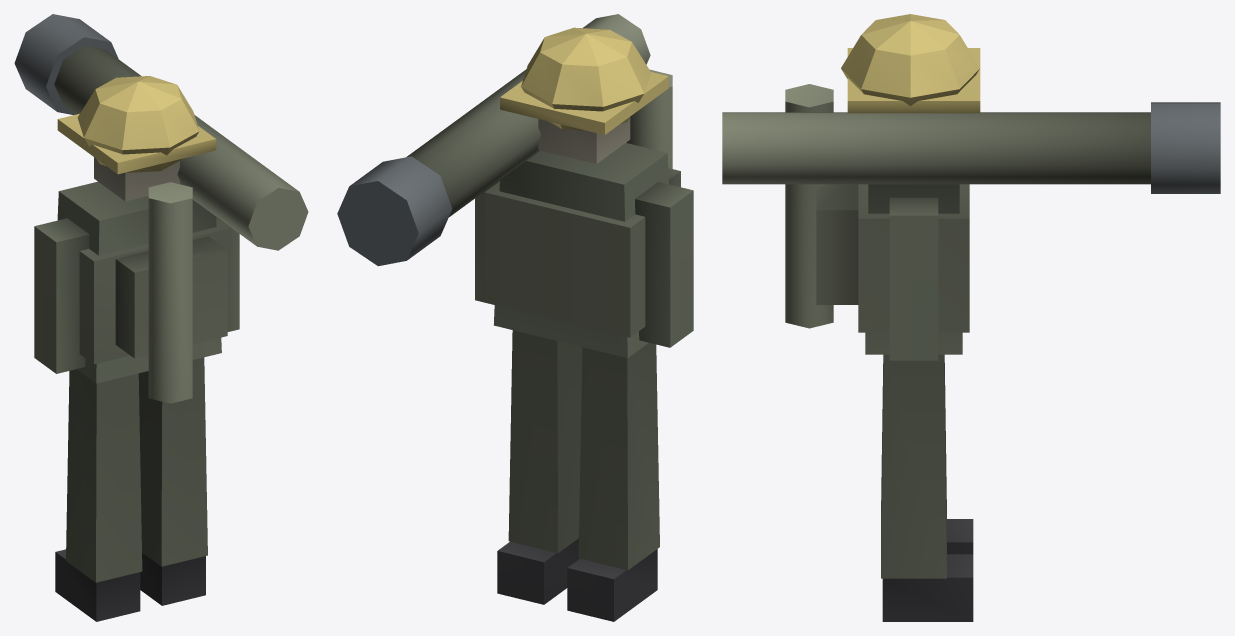
The model's file is at_squad.glb.
3 views of the same model, side by side, from view 1: azimuth 30°, elevation 25°; view 2: azimuth 150°, elevation 25°; view 3: azimuth 270°, elevation 25° (orthographic). The views are drawn at different scales.
Parts seen in each view (by area): view 1: Torso, Leg_L, Weapon, Leg_R, Head, Arm_L, Arm_R; view 2: Torso, Leg_L, Leg_R, Weapon, Head, Arm_L, Arm_R; view 3: Weapon, Torso, Leg_R, Head, Arm_R, Leg_L.
Boxes of the visible parts, x1,y1,x2,y2 form: Torso: (57, 181, 230, 403); Leg_L: (55, 369, 142, 621); Weapon: (14, 14, 308, 250); Leg_R: (138, 357, 207, 605); Head: (57, 76, 216, 201); Arm_L: (34, 218, 89, 373); Arm_R: (216, 217, 239, 331); Torso: (484, 69, 680, 357); Leg_L: (567, 343, 659, 621); Leg_R: (497, 330, 582, 604); Weapon: (337, 14, 650, 266); Head: (500, 27, 668, 163); Arm_L: (635, 182, 693, 347); Arm_R: (475, 180, 499, 304); Weapon: (722, 102, 1220, 193); Torso: (785, 84, 969, 354); Leg_R: (881, 354, 973, 621); Head: (841, 14, 980, 113); Arm_R: (889, 197, 938, 360); Leg_L: (881, 355, 973, 554).
Bounding box in the file's own units: 0.675 × 1.81 × 1.43.
